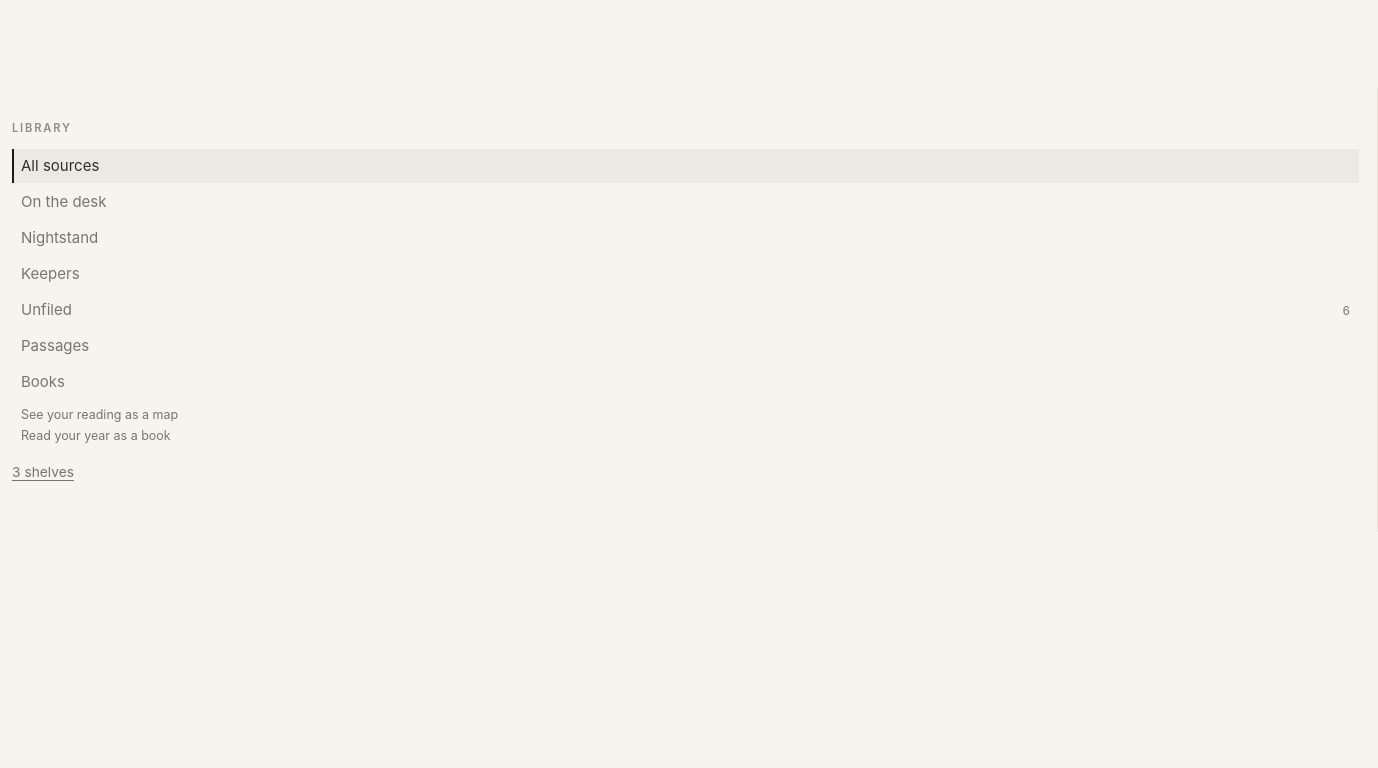
it: LibraryShelfNav › on a phone › opens the cabinet on request, and closes it again
Step 1. Click the button "3 shelves" → (43, 472), box 12,464 -> 74,481
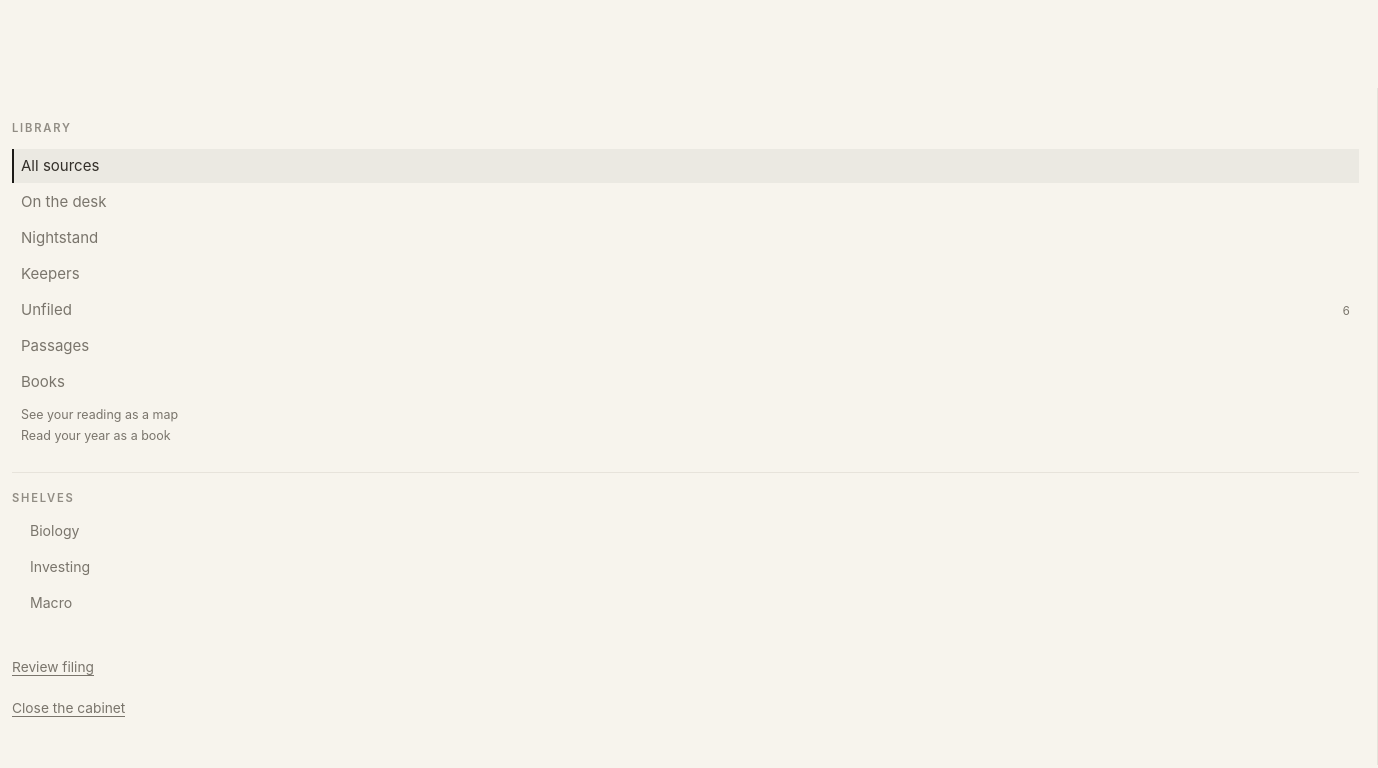
Expected: the button "Investing" is shown, 12,551 -> 1359,585
Expected: the button "Review filing" is shown, 12,659 -> 94,676
Step 2. Click the button "Close the cabinet" → (69, 709), box 12,700 -> 125,717
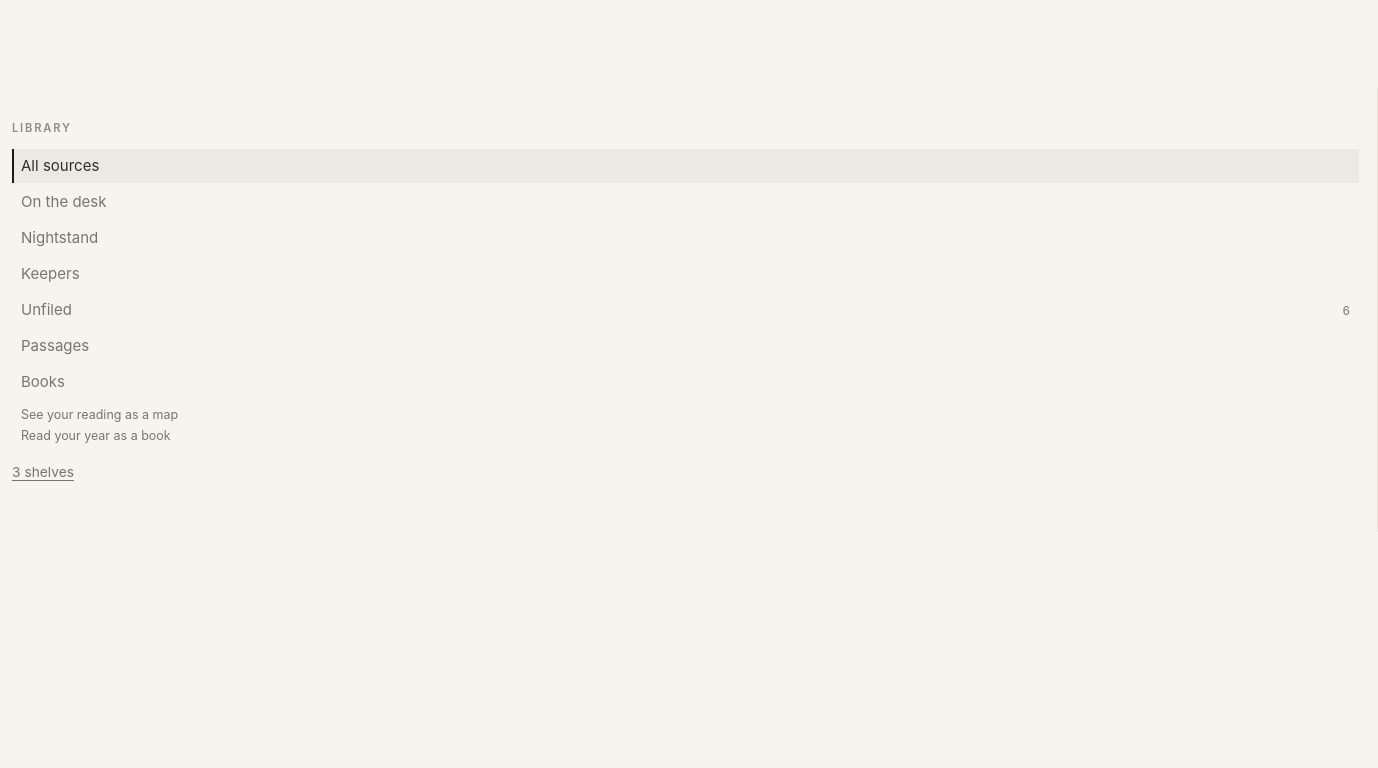
Expected: the button "Investing" is gone
